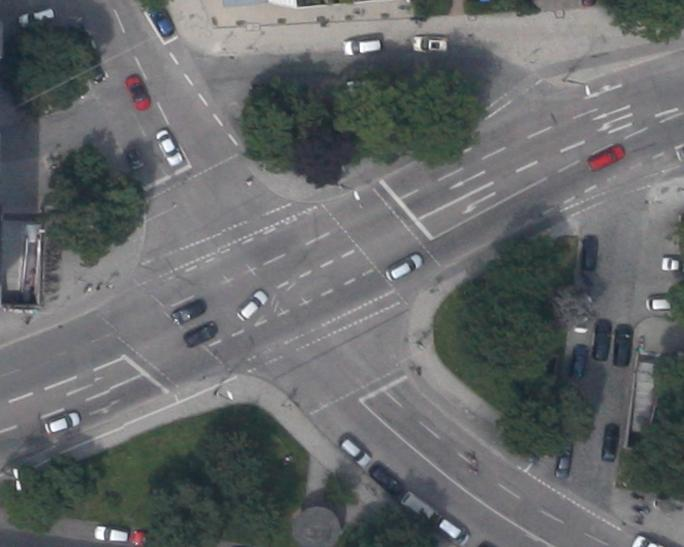car: (398, 489, 438, 526), (366, 462, 406, 498), (152, 126, 184, 168), (382, 251, 424, 283), (431, 514, 470, 547), (234, 288, 269, 324), (586, 142, 626, 172), (338, 436, 372, 468), (123, 74, 152, 111), (43, 410, 82, 436), (147, 4, 176, 38), (18, 4, 57, 29), (182, 321, 218, 348), (170, 298, 204, 326), (612, 324, 634, 366), (592, 318, 611, 360), (600, 423, 620, 462), (342, 38, 382, 57), (554, 440, 574, 478), (579, 234, 598, 270), (94, 524, 128, 544), (569, 343, 588, 377), (412, 35, 447, 53), (125, 147, 144, 171)
